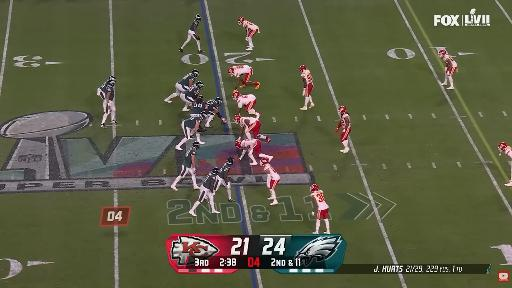Helmet: (195, 81, 204, 90), (233, 114, 241, 124), (310, 184, 319, 192), (438, 49, 446, 58), (260, 158, 268, 166), (338, 106, 346, 114), (191, 69, 199, 77), (200, 111, 207, 120), (499, 142, 506, 151), (233, 91, 240, 100), (192, 142, 200, 149), (226, 157, 233, 165), (215, 97, 222, 105), (211, 167, 218, 175), (228, 67, 234, 76), (235, 141, 242, 148), (238, 17, 244, 24), (109, 75, 116, 81), (300, 65, 306, 72), (195, 15, 201, 21)
Jersey: (311, 190, 328, 210), (183, 147, 196, 168), (100, 82, 114, 100), (264, 164, 279, 180), (183, 116, 201, 128), (237, 95, 255, 107), (232, 66, 251, 77), (202, 173, 215, 189), (242, 139, 259, 151), (178, 74, 195, 86), (184, 86, 199, 99), (443, 54, 457, 67), (191, 102, 206, 114), (240, 117, 257, 127), (207, 100, 219, 114), (219, 164, 230, 179), (340, 113, 350, 129), (301, 70, 312, 84), (243, 21, 258, 29), (190, 20, 198, 31), (504, 147, 511, 158)
Player: (189, 167, 219, 216), (171, 142, 199, 190), (176, 112, 206, 150), (165, 70, 199, 102), (234, 115, 271, 143), (98, 76, 117, 127), (236, 139, 273, 165), (311, 184, 330, 234), (260, 158, 279, 205), (179, 15, 203, 52), (215, 157, 234, 202), (228, 66, 259, 91), (438, 49, 457, 89), (233, 91, 259, 119), (336, 106, 351, 153), (238, 17, 259, 50), (180, 82, 203, 111), (300, 65, 314, 110), (206, 97, 226, 127), (190, 95, 207, 117), (190, 95, 207, 116), (499, 143, 511, 158)
